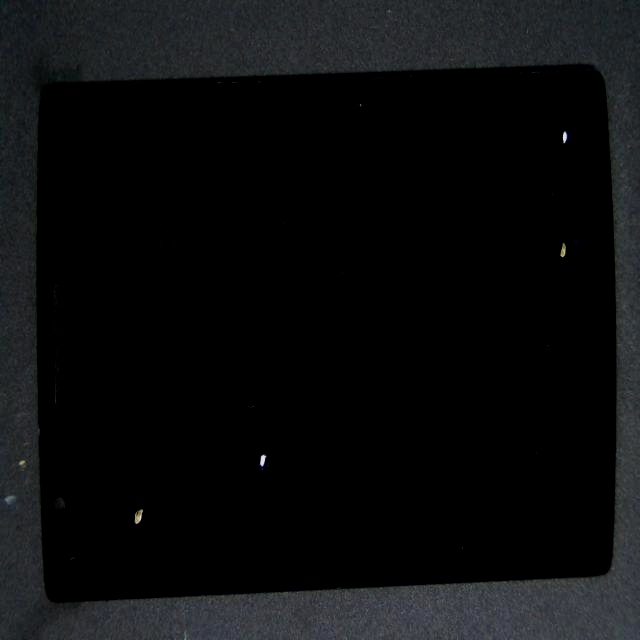stain: (97, 239, 390, 640), (300, 105, 640, 350), (79, 207, 201, 640), (298, 48, 640, 165)
